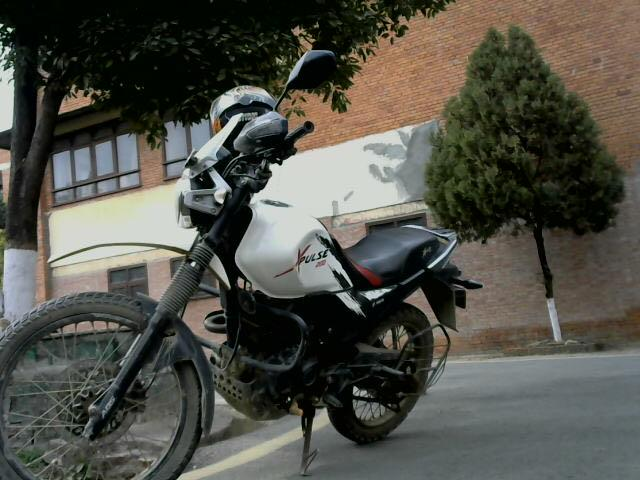Motorcycle: (15, 40, 485, 480)
Tree: (429, 24, 631, 376)
